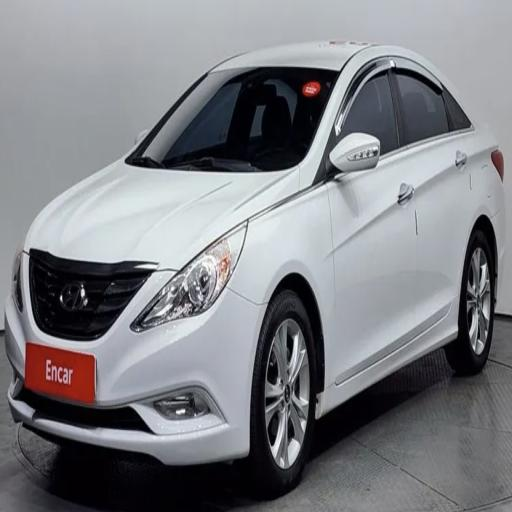normal: (15, 10, 512, 512)
